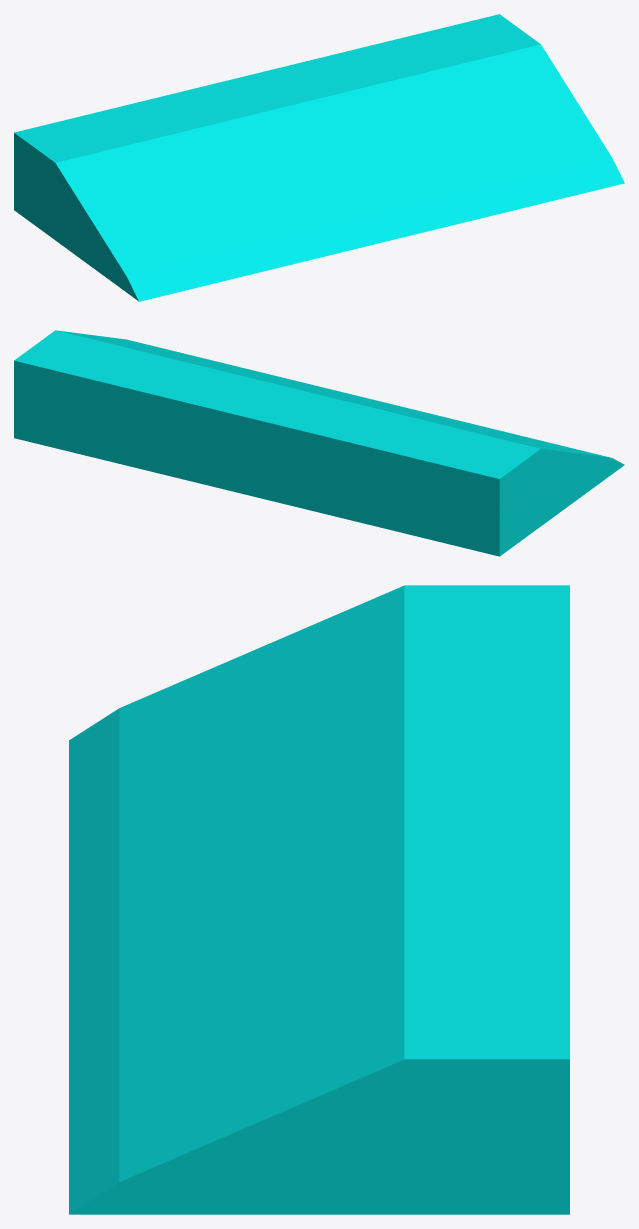
The model's file is SM_Bld_Steps_02_Collision.fbx.
The picture shows the model from 3 angles, top to bottom: view 1: azimuth 30°, elevation 25°; view 2: azimuth 150°, elevation 25°; view 3: azimuth 270°, elevation 25°; orthographic projection. The views are drawn at different scales.
Parts seen in each view (by area): view 1: SM_Bld_Steps_02_Collision; view 2: SM_Bld_Steps_02_Collision; view 3: SM_Bld_Steps_02_Collision.
Part boxes in pixels (box(x1,y1,x2,y2)): SM_Bld_Steps_02_Collision: box(14, 14, 624, 301); SM_Bld_Steps_02_Collision: box(14, 330, 624, 556); SM_Bld_Steps_02_Collision: box(69, 585, 569, 1214).
Bounding box in the file's own units: 307 × 46.83 × 137.
